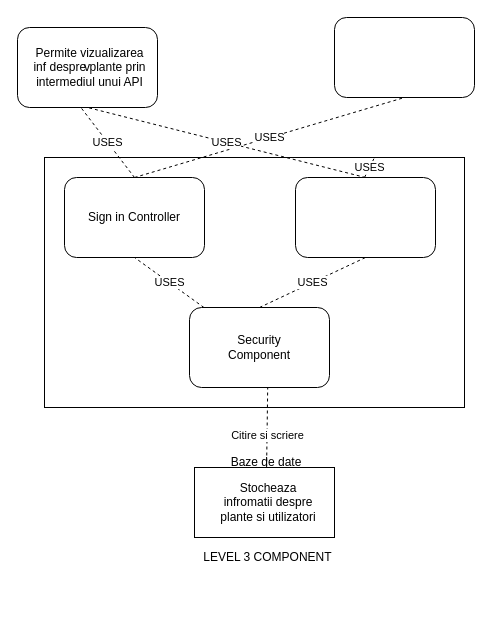
The diagram is 492 pixels wide and 635 high, and some of its shapes have lost their labels. Each missing label, with the box of its shape:
Login in Controller: (294, 176, 436, 258)
Prezentarea gradinii botanice: (334, 16, 474, 98)
